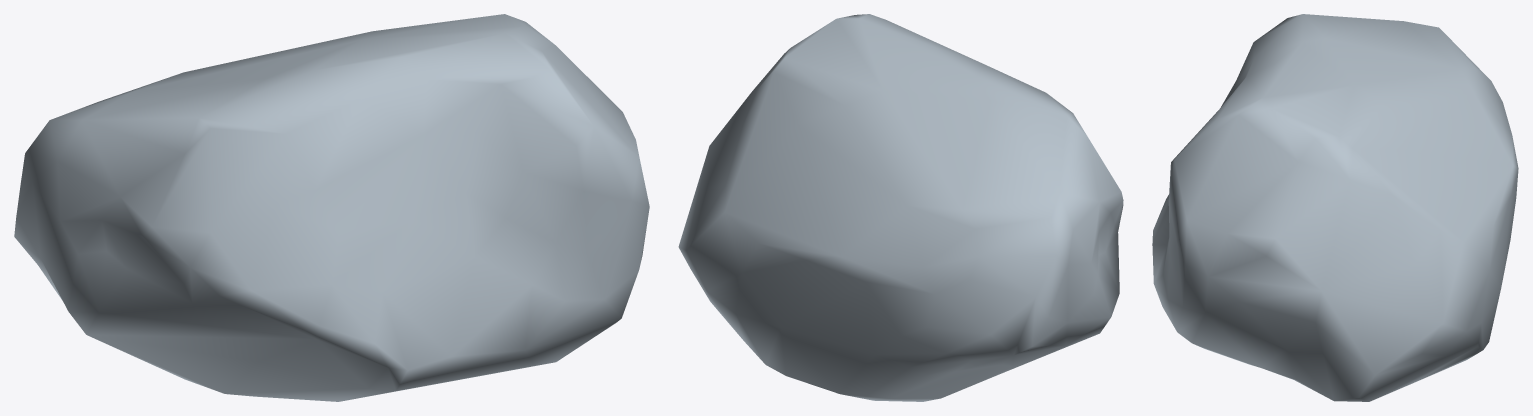
The model's file is itch_assetquest_pond_rock_3b.glb.
3 renders of one model, left to right at view 1: azimuth 30°, elevation 25°; view 2: azimuth 150°, elevation 25°; view 3: azimuth 270°, elevation 25°, orthographic. The views are drawn at different scales.
Visible parts, largest first — view 1: Rock_3b; view 2: Rock_3b; view 3: Rock_3b.
Part boxes in pixels (left/top/right/bottom): Rock_3b: left=14, top=14, right=649, bottom=401; Rock_3b: left=678, top=14, right=1123, bottom=401; Rock_3b: left=1152, top=14, right=1518, bottom=401.
Size of the model in its own units: 1.18 by 0.7642 by 0.8779.
